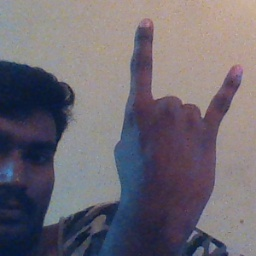V: (108, 15, 249, 213)
